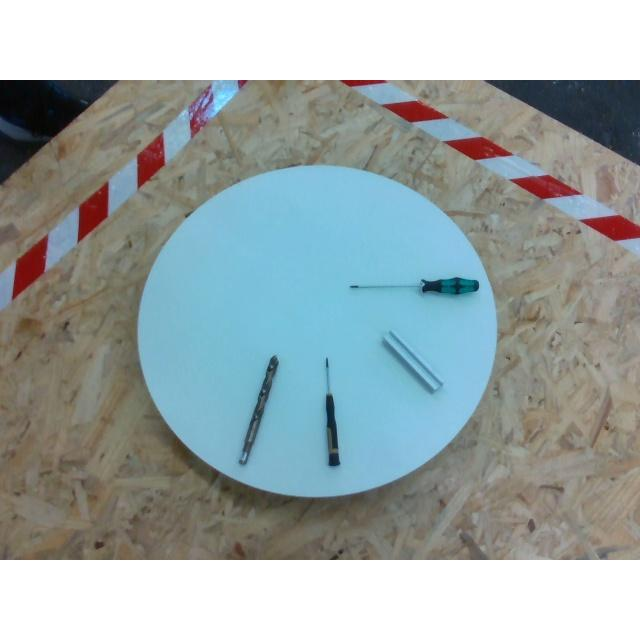Drill: (238, 354, 278, 466)
F20_20_G: (382, 330, 442, 390)
Screwdriver: (349, 278, 478, 294)
